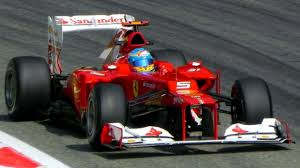FormulaOneCar: (6, 13, 296, 156)
